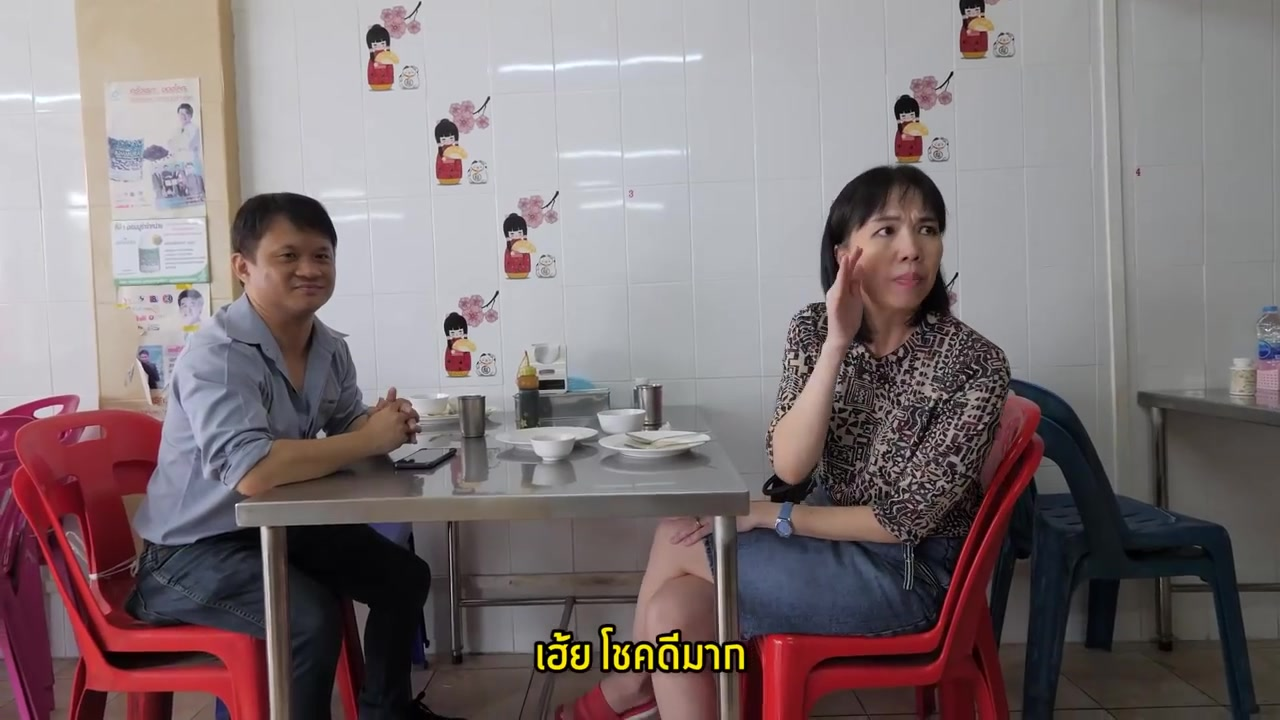text-label: (529, 623, 752, 672)
